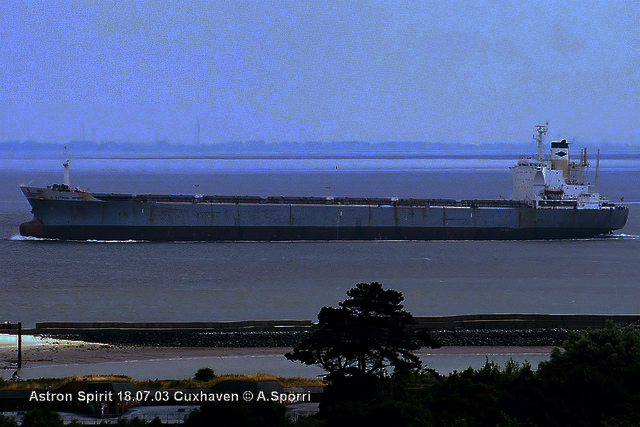bulk carrier: (19, 125, 626, 237)
